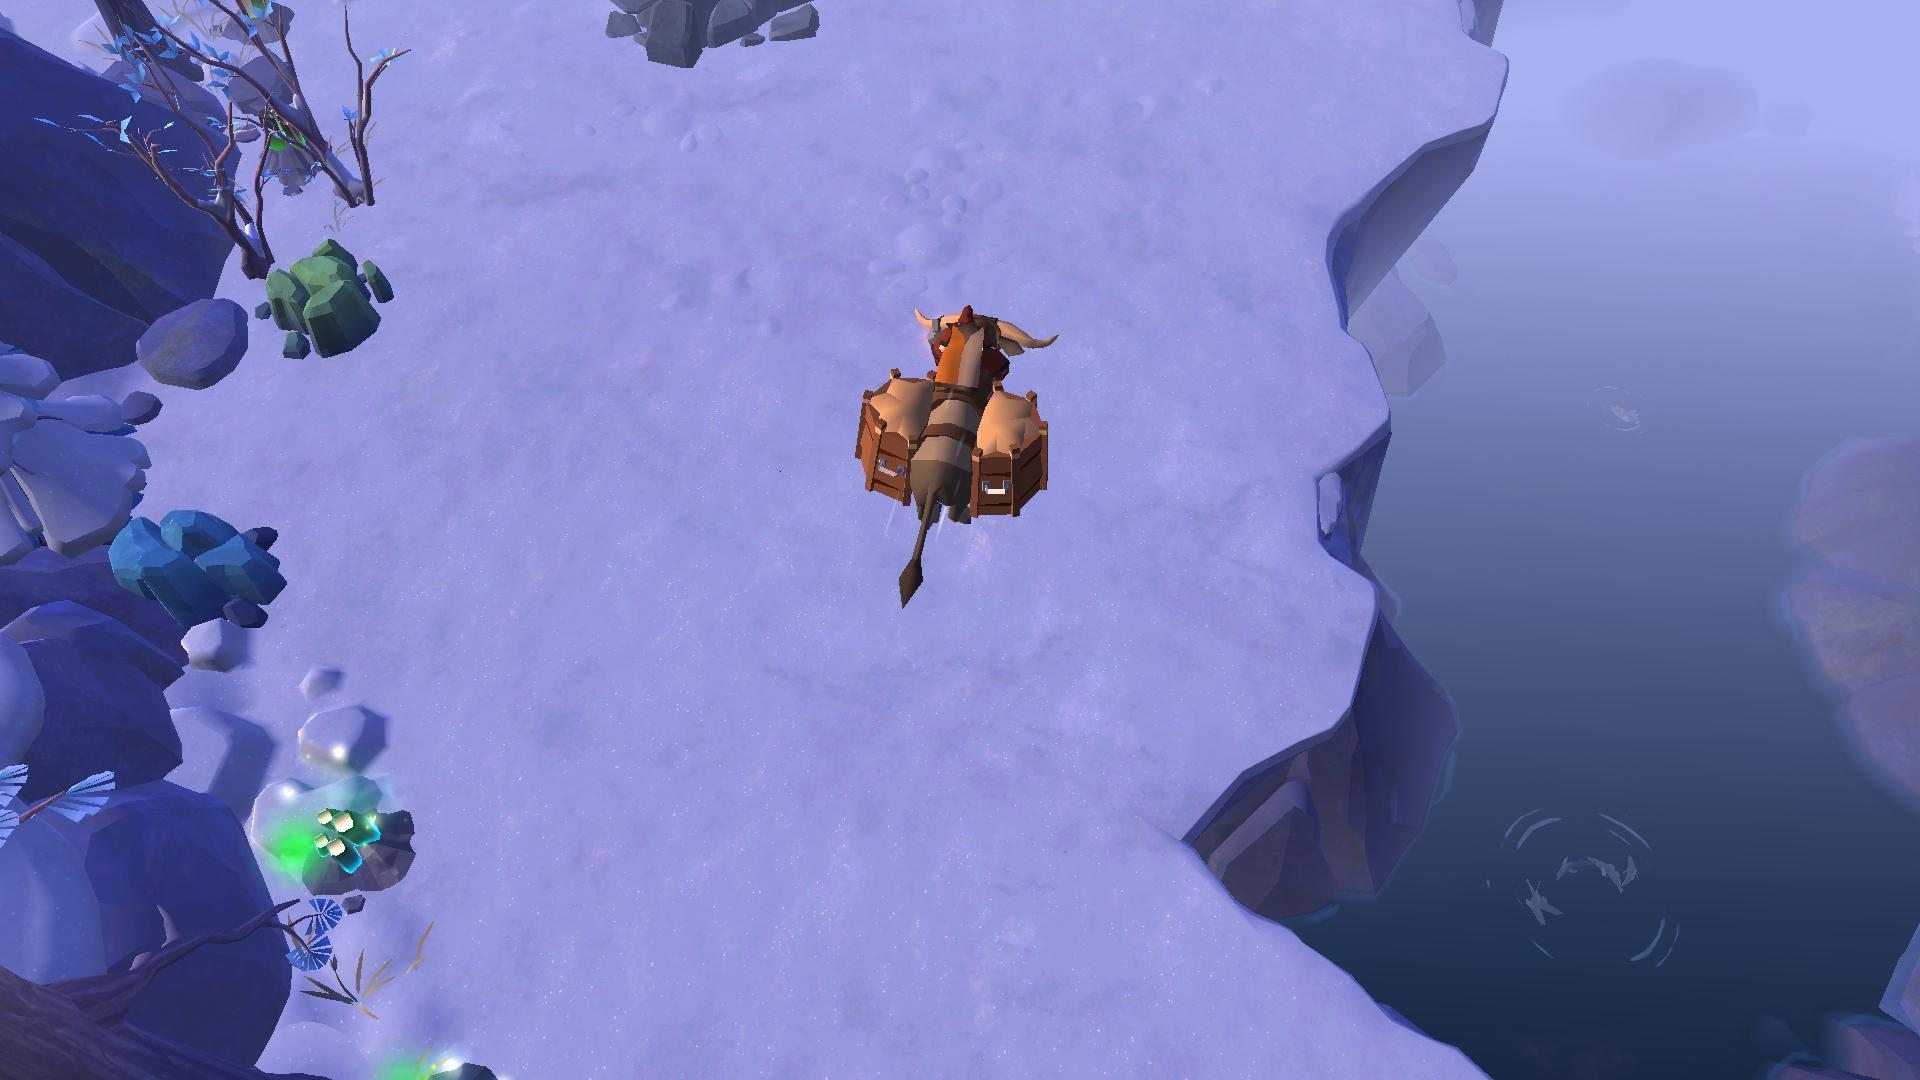ore_t4: (314, 800, 384, 878)
rock_t3: (255, 240, 397, 363)
rock_t4: (105, 492, 284, 636)
